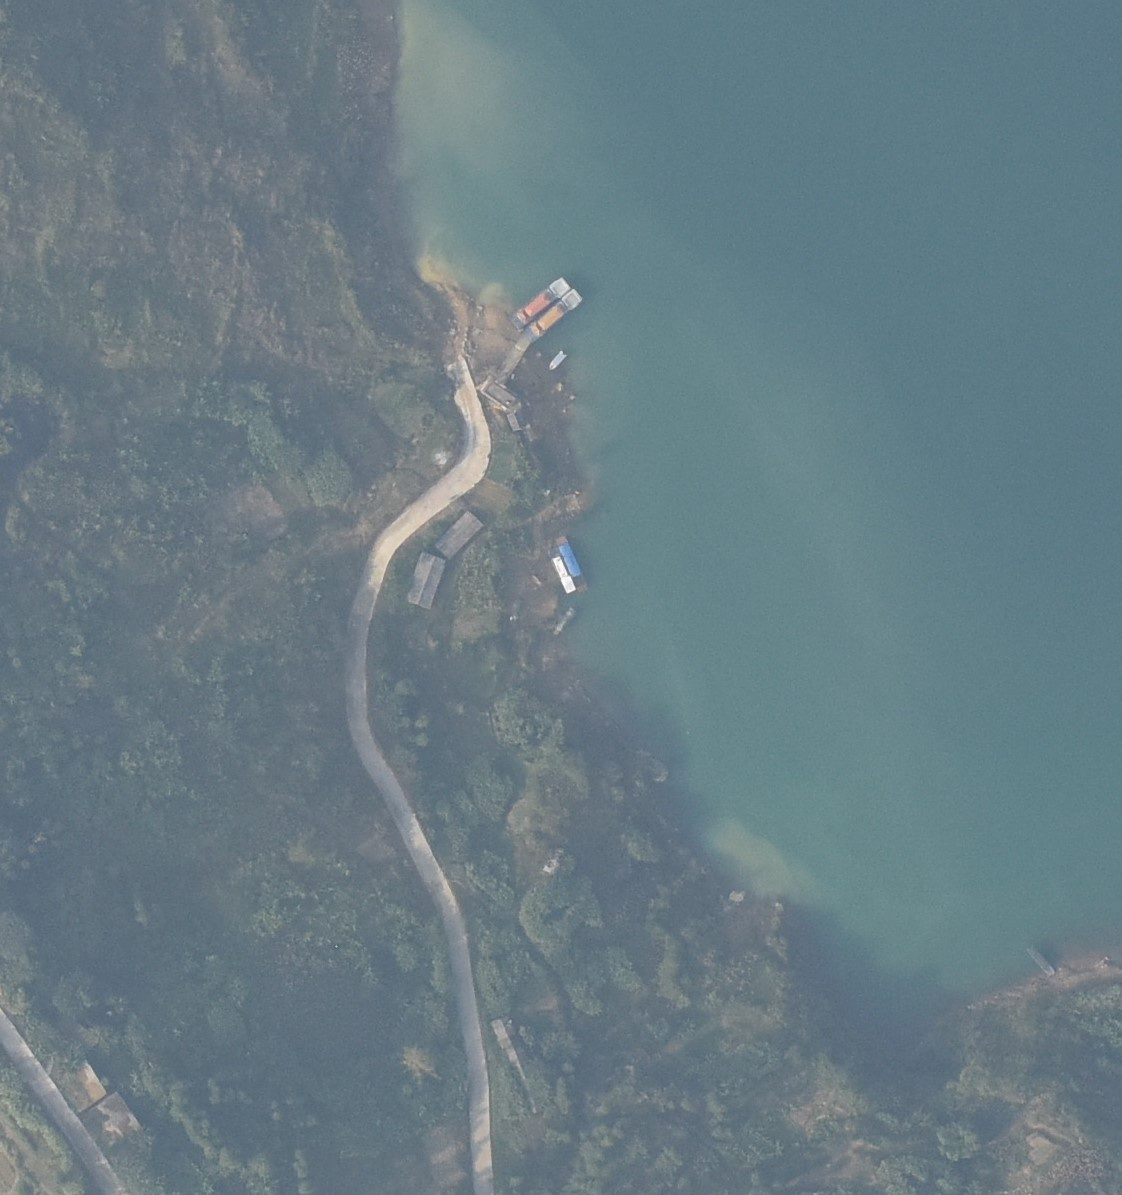building: (490, 1015, 546, 1112), (76, 1090, 141, 1147), (50, 1058, 108, 1112), (434, 506, 487, 560), (406, 548, 449, 610), (477, 370, 519, 411), (502, 411, 528, 433)
ship: (506, 273, 576, 331), (529, 285, 585, 343), (543, 548, 576, 594), (562, 536, 587, 588)
